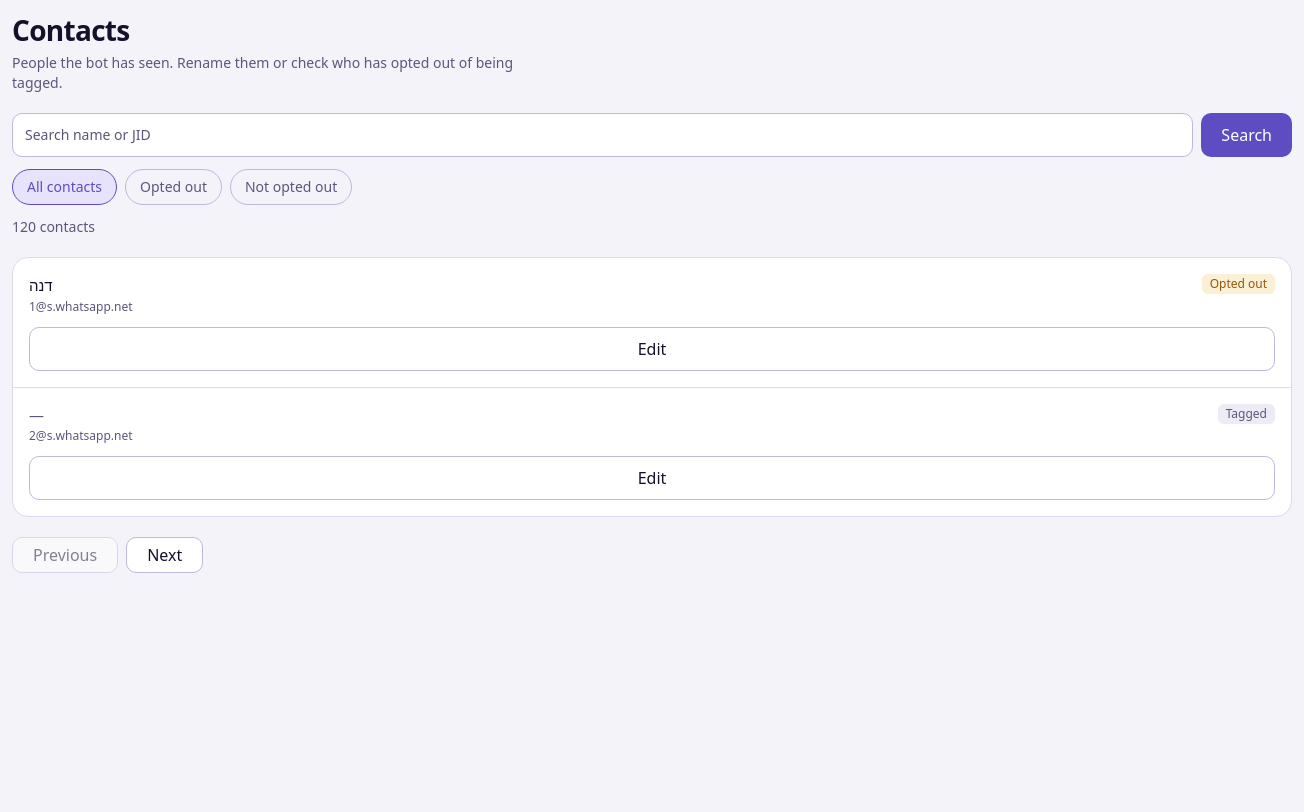
Test: Contacts at phone width › shows the save error inside the card being edited
This screenshot has width=1304, height=812.
Click the button with aria-label "Edit 2@s.whatsapp.net" at (652, 478), box [29,456,1275,500]
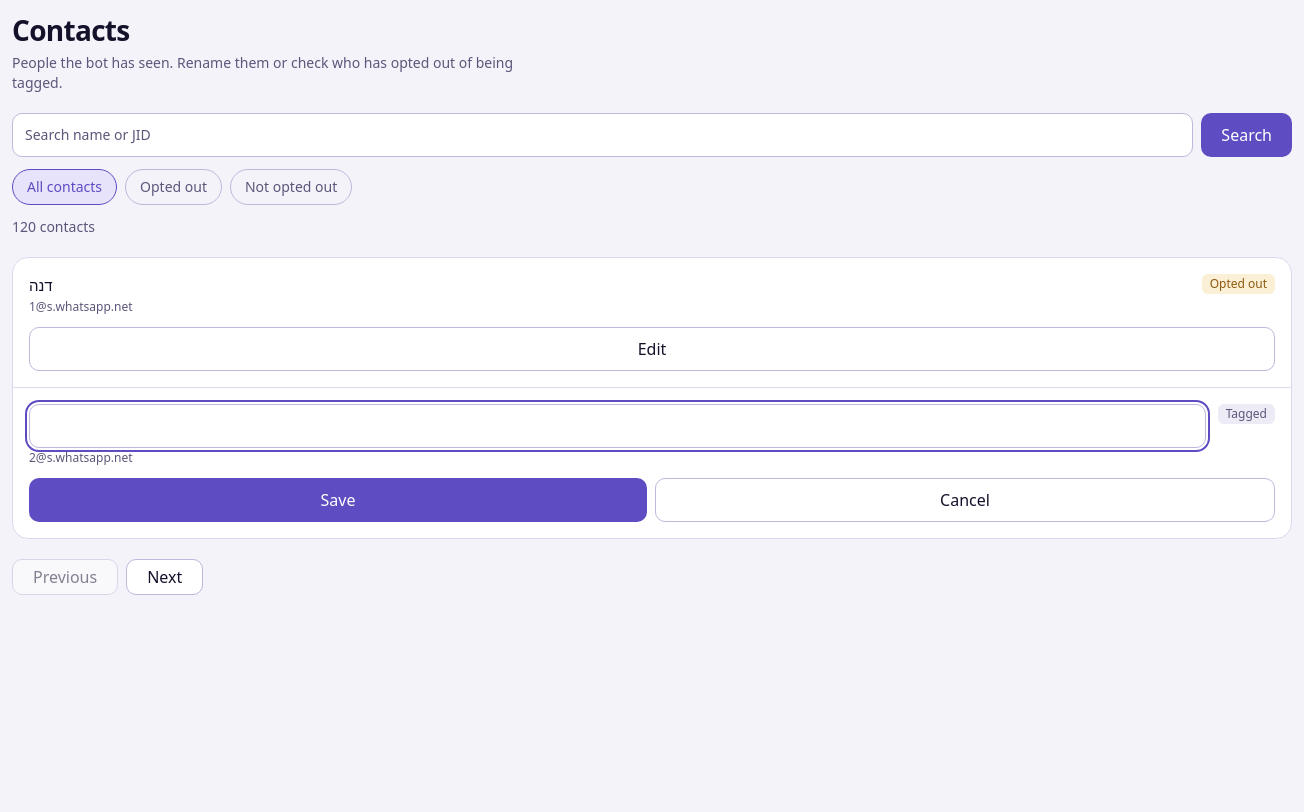
Click the button "Save" at (338, 500), box [29,478,647,522]
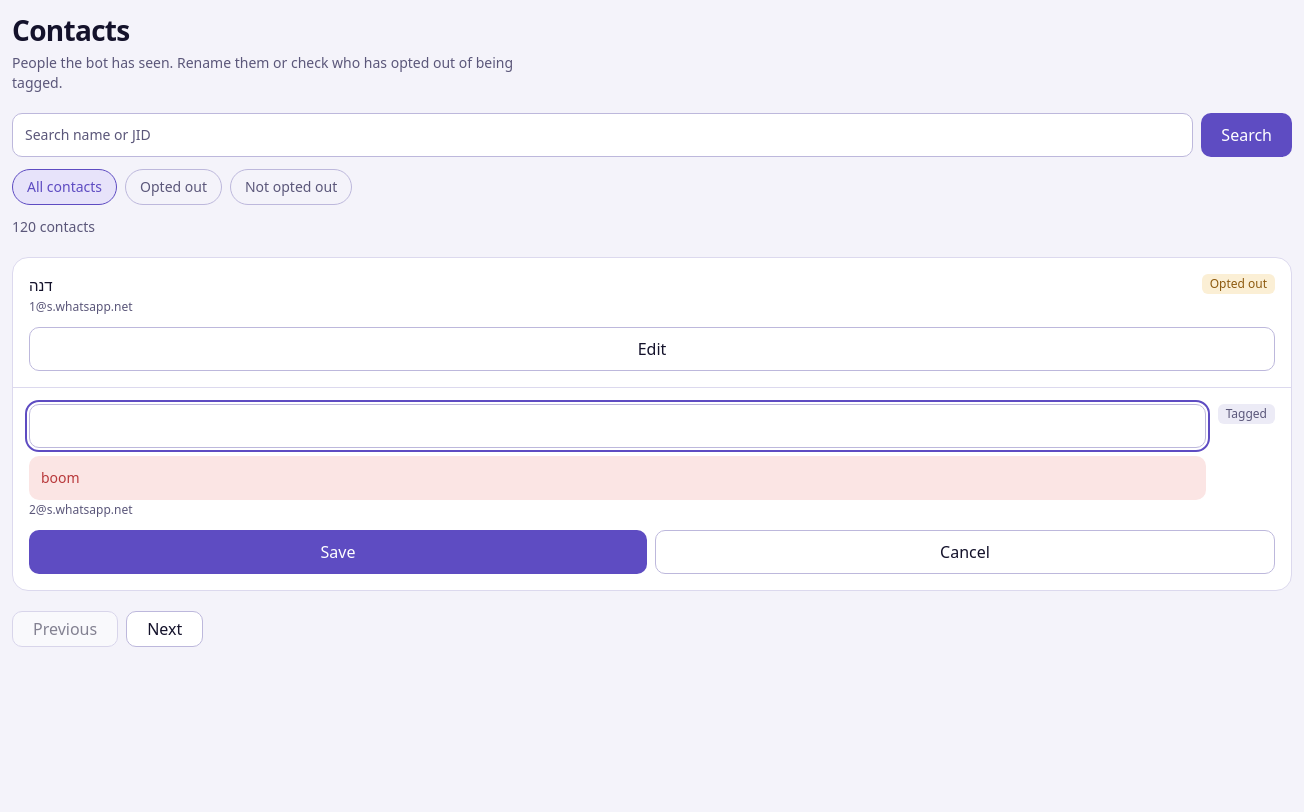
Expected: the list item "boom 2@s.whatsapp.net Tagged Save Cancel" is shown, [13,388,1291,590]
Expected: the message reads "boom", [41,468,80,487]
